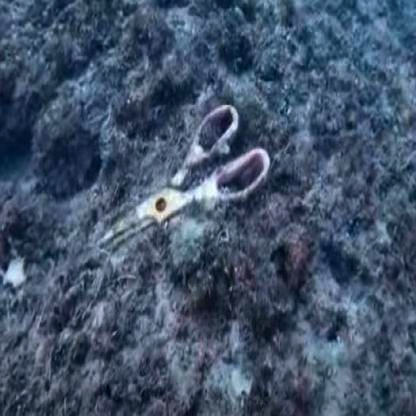misc: (105, 94, 291, 286)
